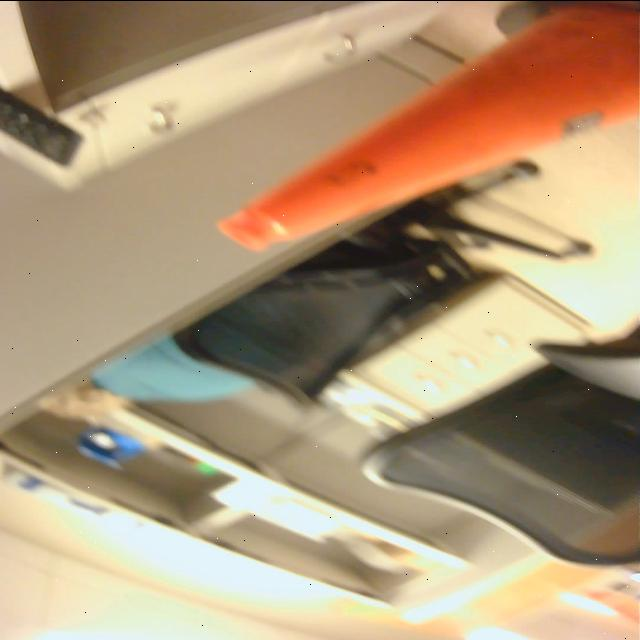traffic cone: (208, 2, 640, 255)
